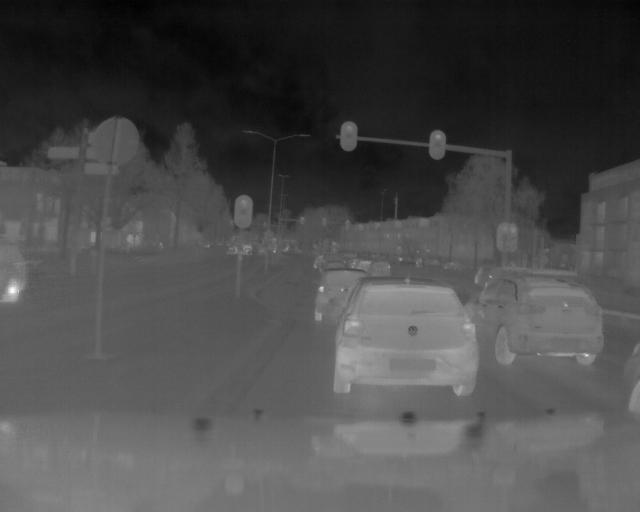car: (331, 278, 479, 397), (463, 272, 608, 364), (312, 268, 367, 323)
